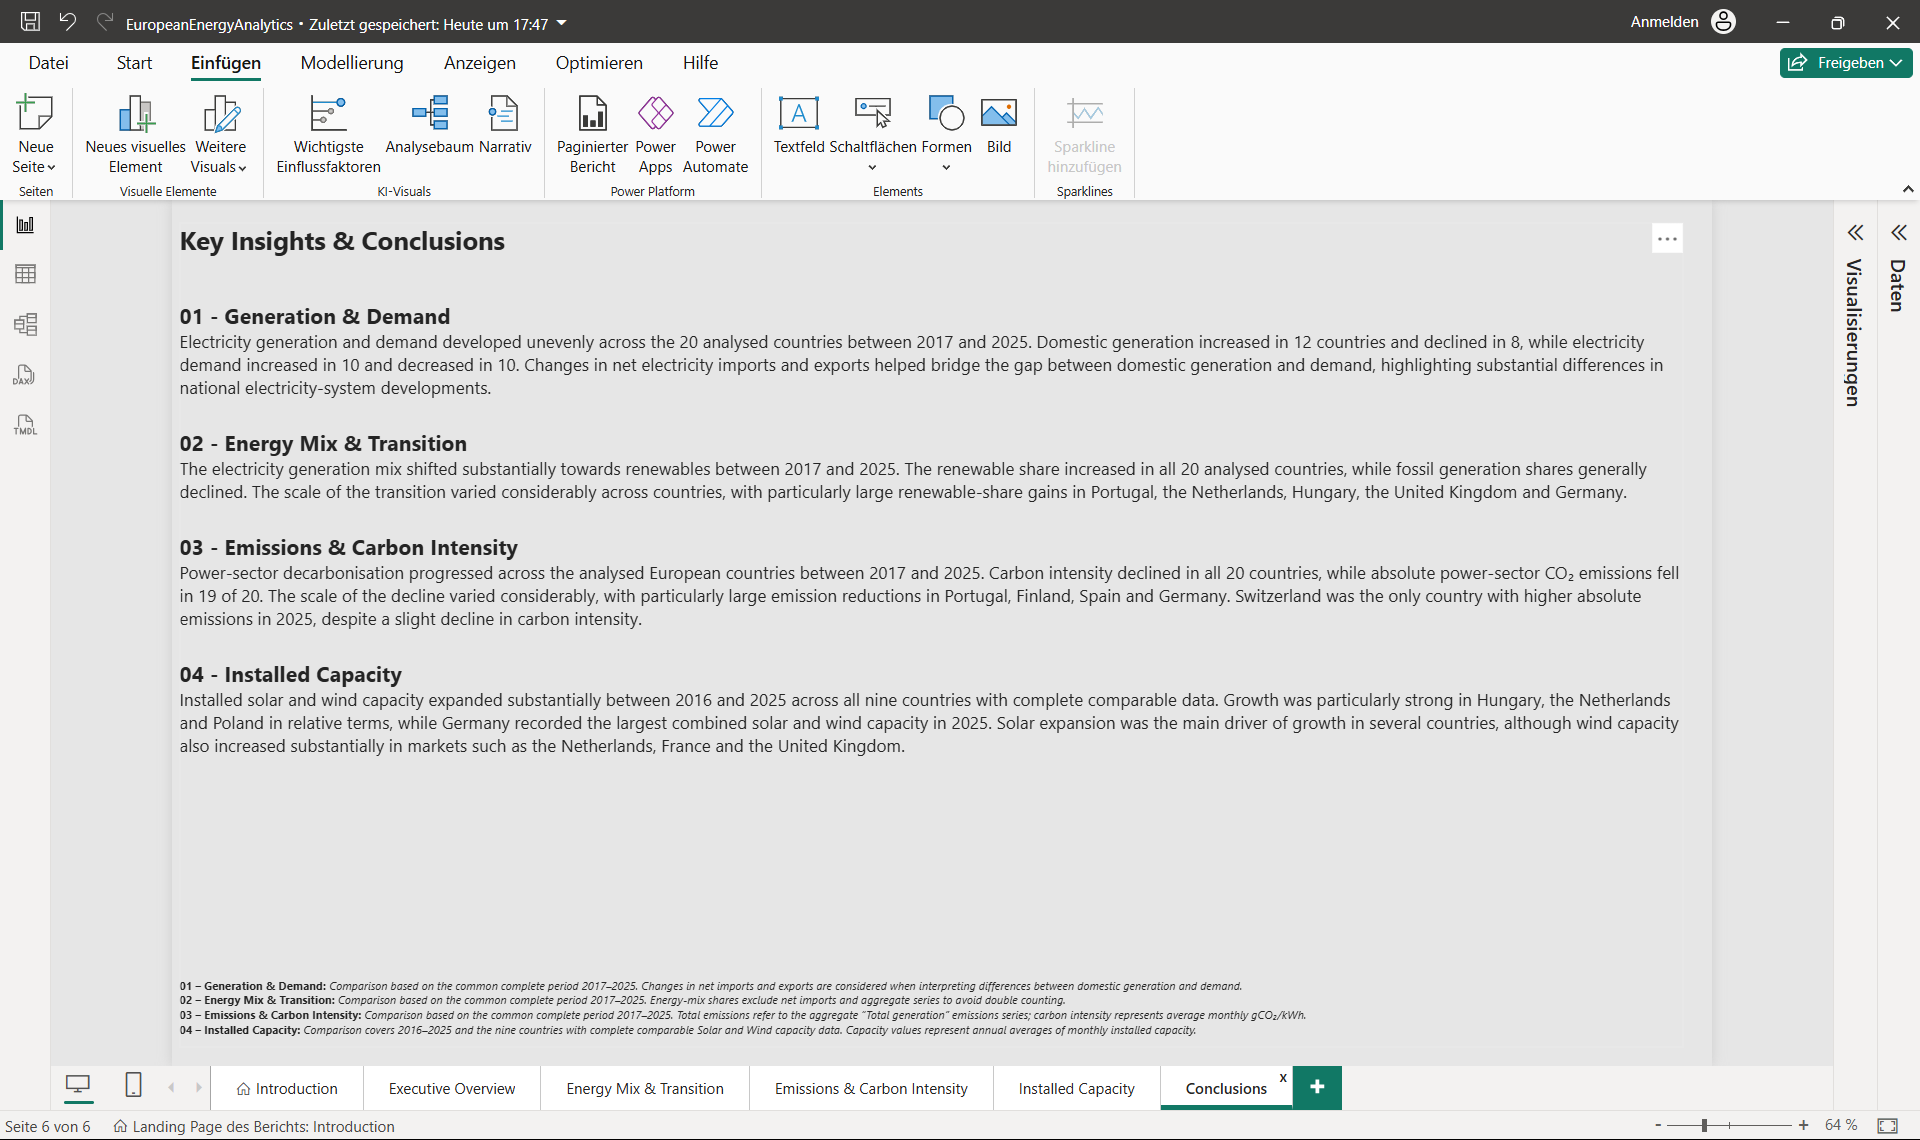

The dashboard page shown, as its layout file describes it:
{"tool":"powerbi","page":{"name":"Conclusions","canvas":[1920,1080],"ordinal":5},"visuals":[{"type":"textbox","box":[9.4,28.1,1875.4,1028.9],"z":0}]}

Visuals, with their boxes on the page's 1920x1080 design canvas (x1, y1, x2, y2). These are canvas units, not pixel positions in the 1920x1140 screenshot, which may show the page scaled, cropped or inside an application window:
textbox: locate(9, 28, 1885, 1057)
